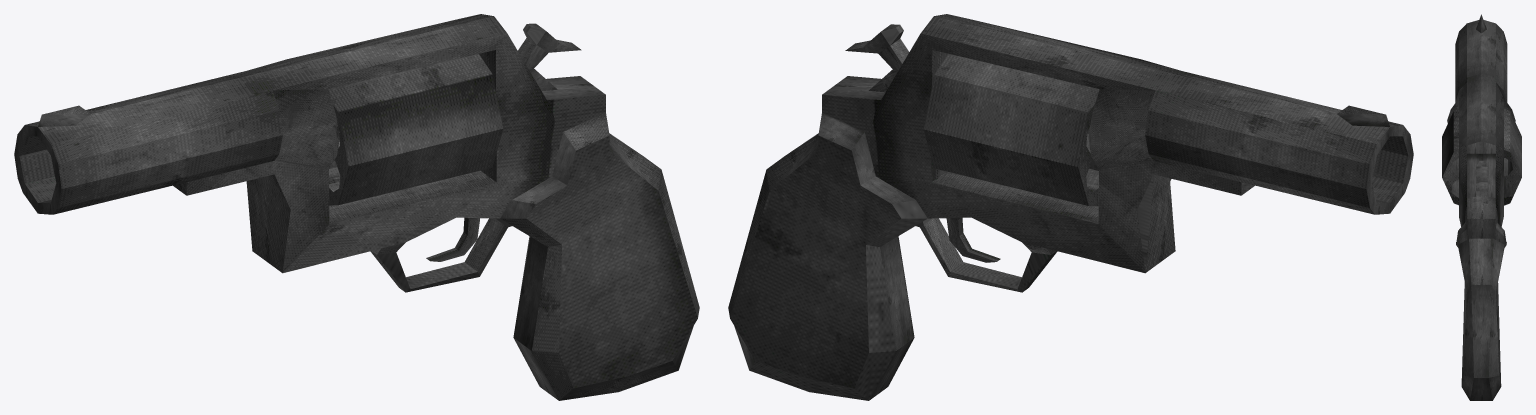
File: Revolver.fbx
3 views of the same model, side by side, from view 1: azimuth 30°, elevation 25°; view 2: azimuth 150°, elevation 25°; view 3: azimuth 270°, elevation 25° (orthographic). The views are drawn at different scales.
Visible parts, largest first — view 1: Revolver; view 2: Revolver; view 3: Revolver.
Part boxes in pixels (bbox=[...]): Revolver: bbox=[14, 14, 699, 400]; Revolver: bbox=[728, 14, 1413, 400]; Revolver: bbox=[1442, 14, 1521, 400].
Size of the model in its own units: 365 by 217 by 70.5.
Materials: 5 (5 with a texture image).
